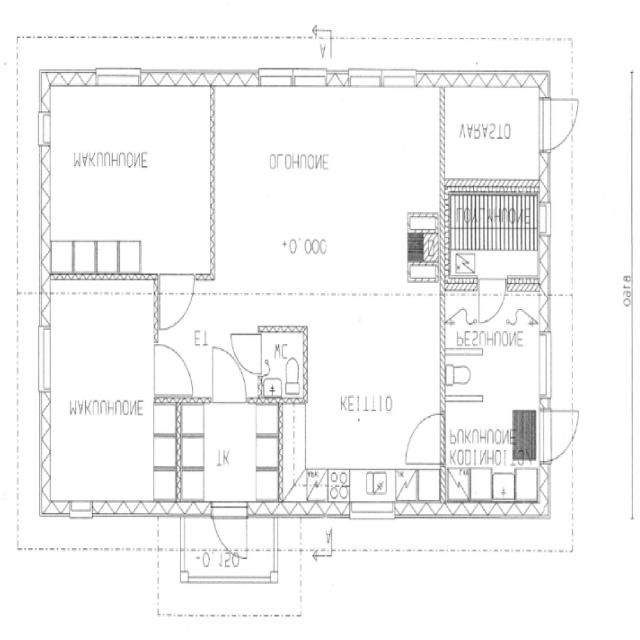door: (539, 100, 585, 148), (540, 409, 584, 459), (214, 499, 246, 564), (406, 413, 446, 462), (161, 272, 194, 329), (154, 344, 192, 393), (213, 347, 246, 403), (479, 274, 506, 328), (231, 334, 262, 372)
